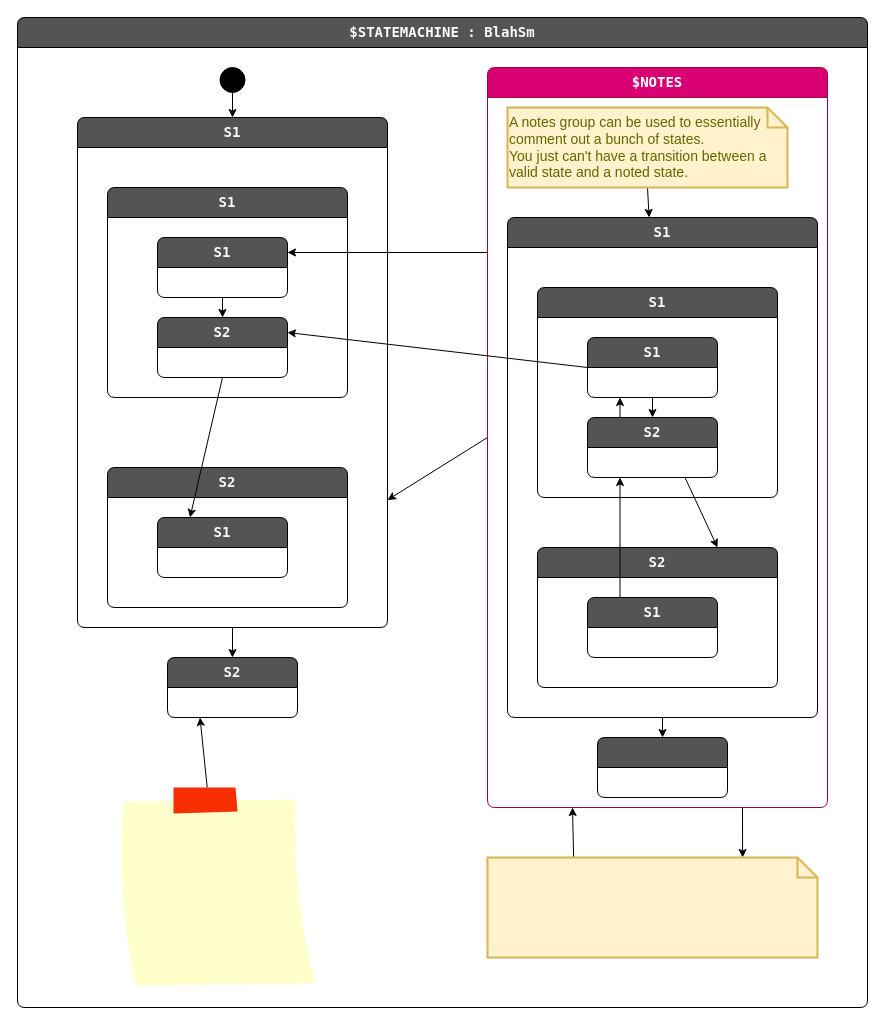
Some shapes in this 885 by 1025 pixel diagram are drawn without their labels. Here are the shapes that lost their labels. From the top down, the box of each, then its label:
(596, 736, 728, 798): S4
(116, 786, 318, 988): Note Line 1 Note Line 2 Note Line 3
(486, 856, 818, 958): Note
